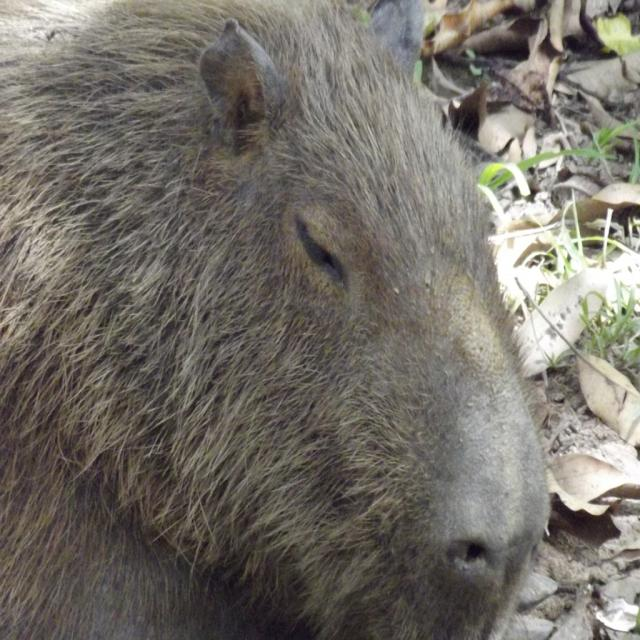Pig: (0, 0, 551, 640)
